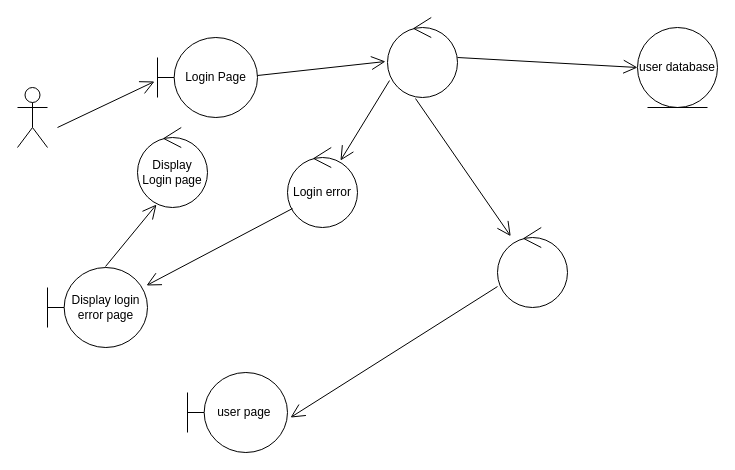
Image size: 735x470. Some labels were removed from this diagram. Each missing label, with the centre of its shape:
"display user page" goes at [532,267].
"User" goes at [32,117].
"Validate login details" goes at [422,57].
